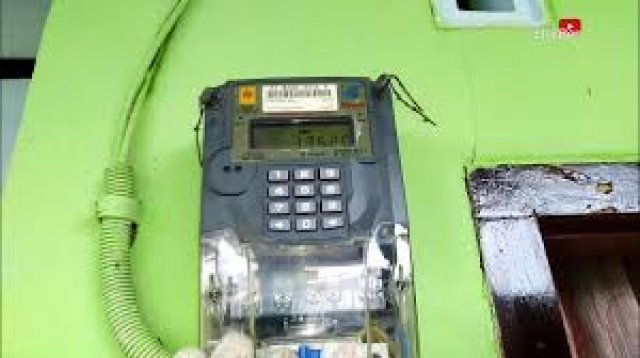box: (250, 120, 355, 148)
